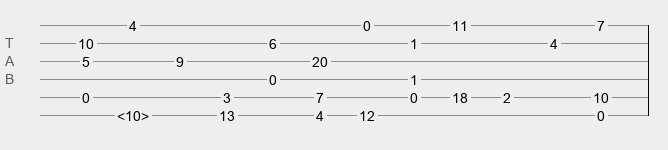0: (82, 90, 90, 100), (269, 72, 277, 82), (363, 18, 371, 28), (410, 90, 418, 100), (597, 108, 605, 118)
1: (410, 72, 418, 82), (410, 36, 418, 46)
10: (78, 36, 94, 46), (593, 90, 609, 100)
11: (452, 18, 468, 28)
12: (359, 108, 375, 118)
13: (219, 108, 235, 118)
18: (452, 90, 468, 100)
2: (503, 90, 511, 100)
20: (312, 54, 328, 64)
3: (223, 90, 231, 100)
4: (129, 18, 137, 28), (316, 108, 324, 118), (550, 36, 558, 46)
5: (82, 54, 90, 64)
6: (269, 36, 277, 46)
7: (316, 90, 324, 100), (597, 18, 605, 28)
9: (176, 54, 184, 64)
harmonic: (117, 108, 149, 118)
